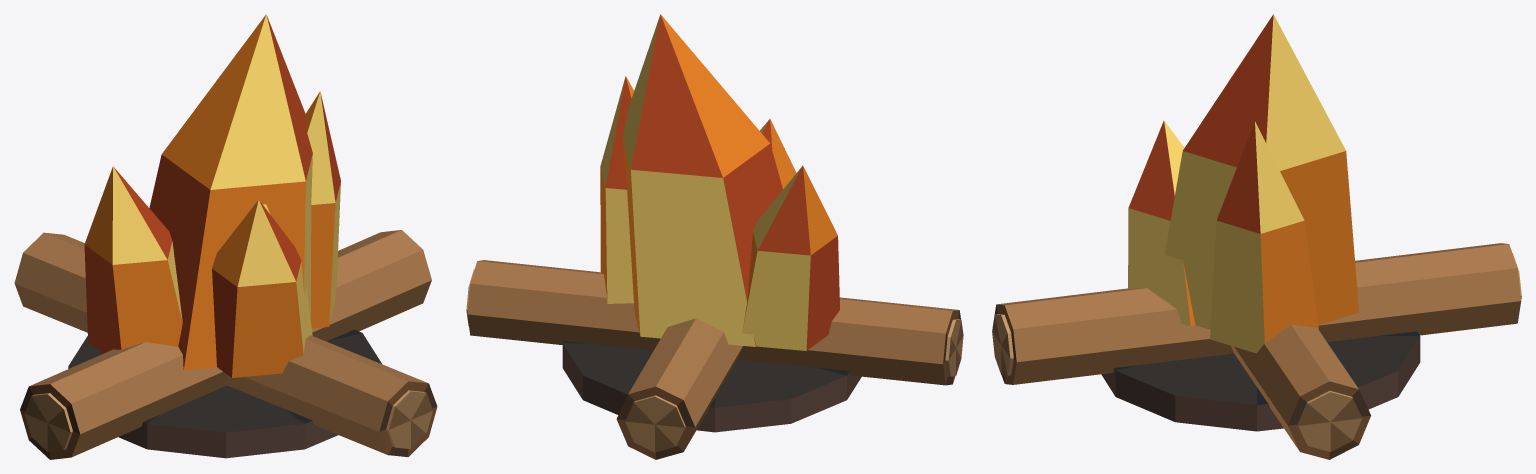
File: campfire.fbx
3 views of the same model, side by side, from view 1: azimuth 30°, elevation 25°; view 2: azimuth 150°, elevation 25°; view 3: azimuth 270°, elevation 25° (orthographic). The views are drawn at different scales.
Visible parts, largest first — view 1: campfire_flames, campfire_body; view 2: campfire_flames, campfire_body; view 3: campfire_body, campfire_flames.
Part boxes in pixels (x1,y1,x2,y2): campfire_flames: [84, 14, 340, 377]; campfire_body: [14, 230, 437, 459]; campfire_flames: [600, 14, 839, 350]; campfire_body: [466, 260, 963, 459]; campfire_body: [992, 243, 1521, 459]; campfire_flames: [1128, 14, 1359, 353].
Bounding box in the file's own units: 2.18 × 1.69 × 2.18.
1 material, 1 textured.
